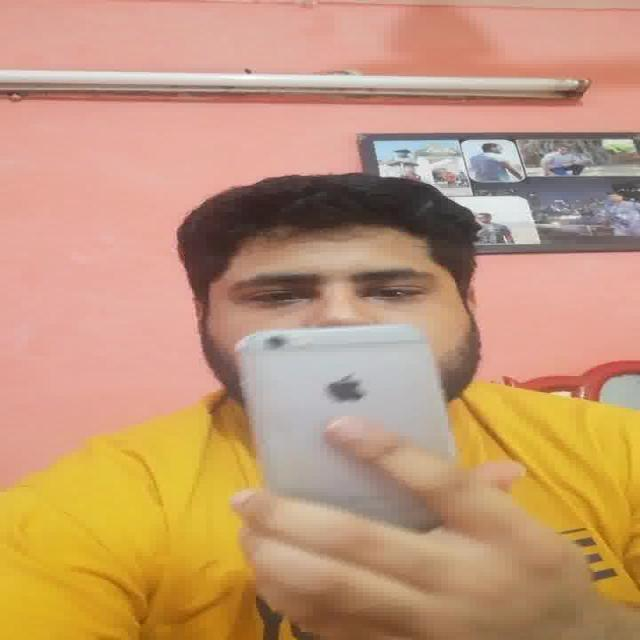Phone: (230, 324, 459, 510)
